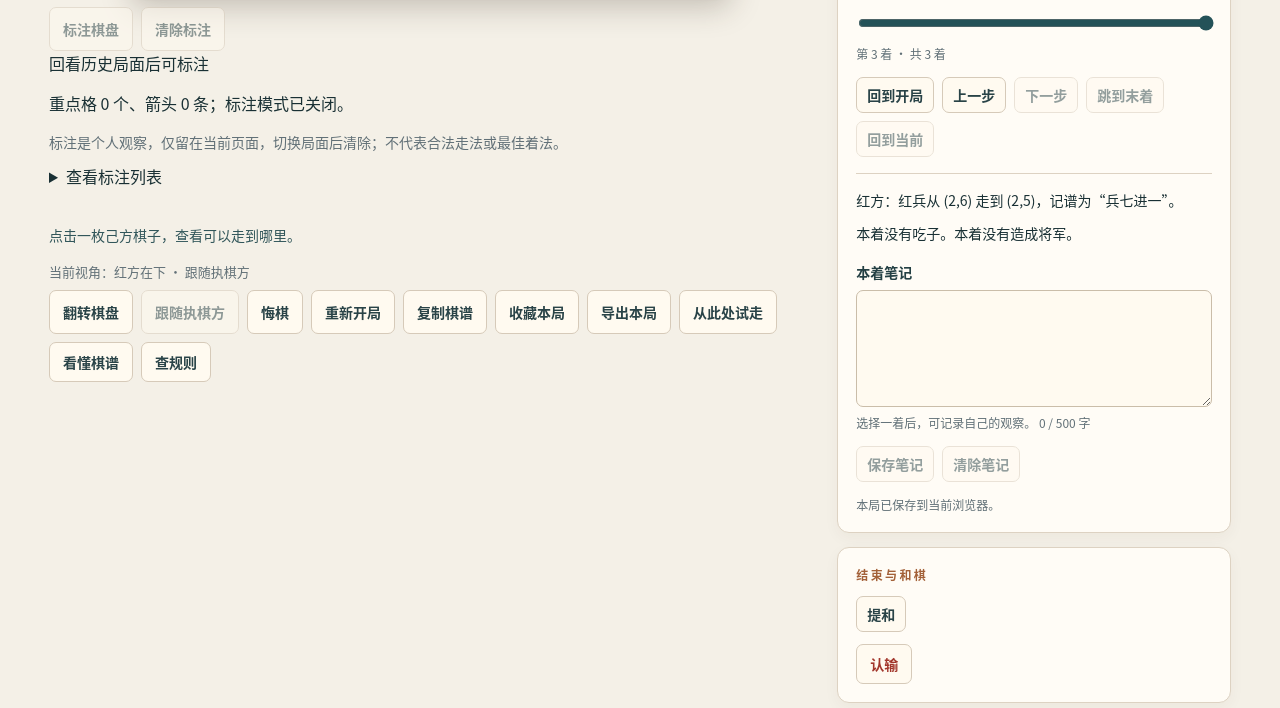
Test case: saved notes in the actual app › reports an actual browser write failure without claiming the note survived refresh
The image size is (1280, 708).
(page scrolled)
Type "未持久保存" into the text box labelled "本着笔记".
click(1034, 349); type("未持久保存")  # box [856,290,1212,407]
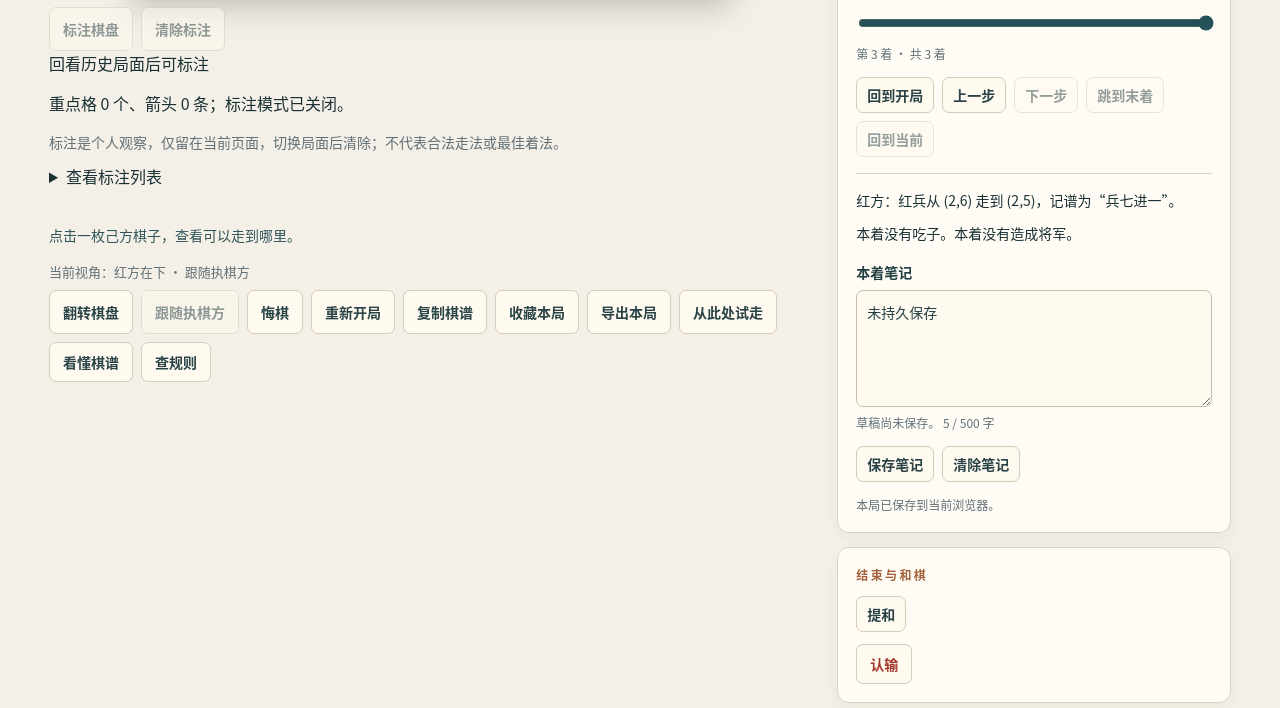
Click the button "保存笔记".
click(895, 464)  # box [856,446,934,482]
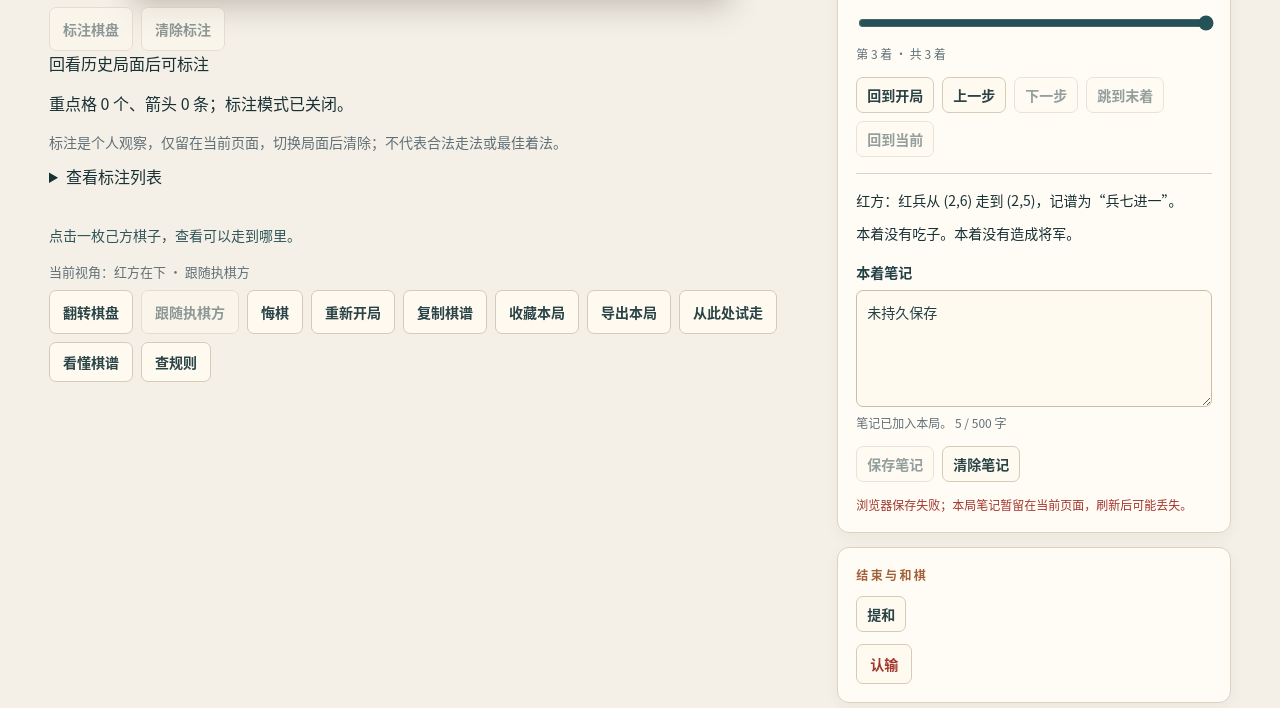
Expected: the text "浏览器保存失败；本局笔记暂留在当前页面，刷新后可能丢失。" is shown, [856,495,1212,514]
Expected: the text "本局已保存到当前浏览器。" is gone
